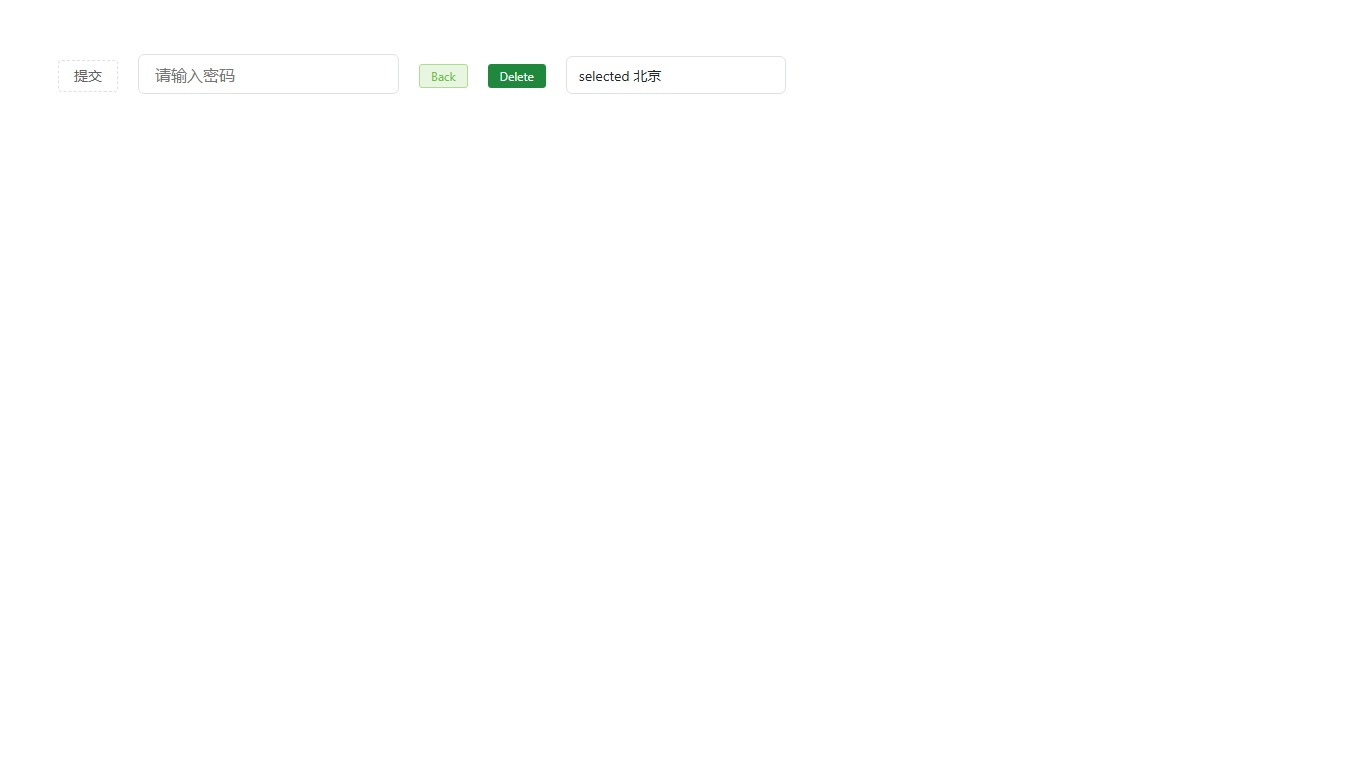button: (58, 59, 118, 91), (487, 63, 546, 87), (419, 63, 468, 87)
input: (138, 54, 399, 94)
select: (566, 56, 786, 94)
